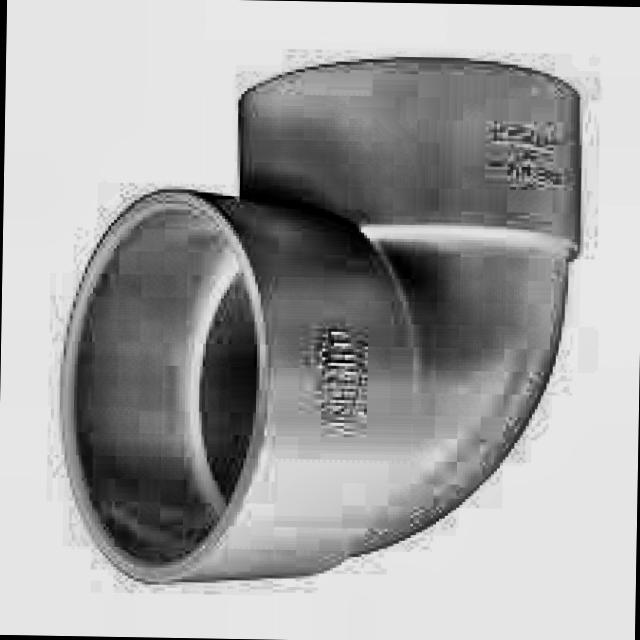ELBOW90: (55, 54, 582, 584)
